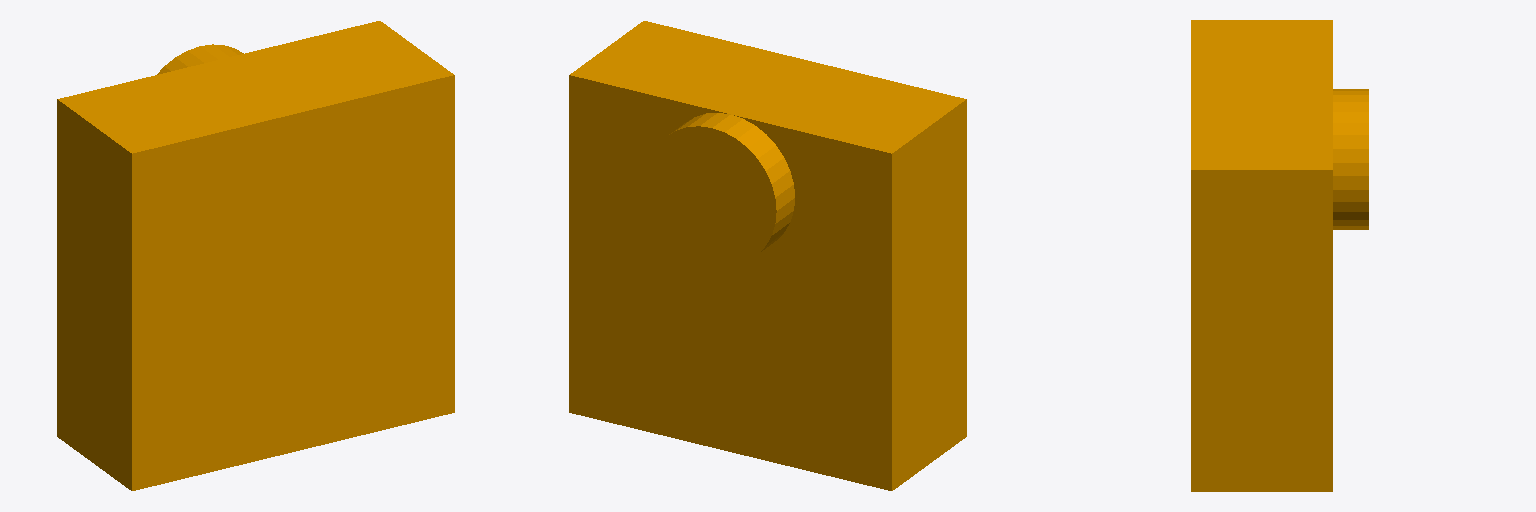
robot.urdf — Camera Sensor:
<?xml version="1.0"?>
<robot name="Camera Sensor">

	<link name="outerframe">
		<pose> 0 0 0 0 0 0 </pose>
		<inertial>
		    <origin xyz="0.0 0.0 0.05" rpy="0 0 0"/>
		    <mass value="1"/>
		    <inertia
			ixx="1.0" ixy="0.0" ixz="0.0"
			iyy="1.0" iyz="0.0"
			izz="1.0"/>
	    	</inertial>
		<collision name="collisionBox">
		    	<origin xyz="0.0 0.0 0.0" rpy="0 0 0"/>
			<geometry>
			<box size="0.1 0.04 0.05"/>
			</geometry>		
		</collision>
		<visual name="visualBox">
		    	<origin xyz="0.0 0.0 0.0" rpy="0 0 0"/>
			<geometry>
			<box size="0.1 0.04 0.1"/>
			</geometry>		
		</visual>

		<collision name="collisionLense">
			<origin xyz="0.0 0.02 0.03" rpy="1.5707963 0 0" />
			<geometry>
				<cylinder length="0.02" radius="0.02"/>
			</geometry>		
		</collision>
		<visual name="visualLense">
			<origin xyz="0.0 0.02 0.03" rpy="1.5707963 0 0" />
			<geometry>
				<cylinder length="0.02" radius="0.02"/>	
			</geometry>			
		</visual>
			
	
	</link>
	<gazebo reference = "outerframe">
		<sensor  type="camera" name="Camera URDF">
			<pose>0 0 0.03 0 0 1.57</pose>
			<update_rate>50</update_rate>
			<always_on>true</always_on>
			<visualize>true</visualize>
			<camera>
				<horizontal_fov>1.047</horizontal_fov>
				<image>
					<height>786</height>
					<width>786</width>
				</image>
				<!--<save enabled=True>
					<path>"[local-path]"</path>
				</save>-->
				<noise>
				    <type>gaussian</type>
				    <mean>0.0</mean>
				    <stddev>0.01</stddev>
				</noise>
				<clip>
				    <near>0.1</near>
				    <far>100</far>
				</clip>
				<distortion>
				   <k1>-0.25</k1>
				   <k2>0.12</k2>
				   <k3>0.0</k3>
				   <p1>-0.00028</p1>
				   <p2>-0.00005</p2>
				   <center>0.5 0.5</center>
				</distortion>
			</camera>


		</sensor>
</gazebo>
</robot>

--- Render facts (derived) ---
3 views of the same robot in one strip: view 1: azimuth 30°, elevation 25°; view 2: azimuth 150°, elevation 25°; view 3: azimuth 270°, elevation 25° (orthographic).
Model Camera Sensor with 1 links and 0 joints (none), rooted at outerframe, posed every joint at zero.
Links seen in each view (by area): view 1: outerframe; view 2: outerframe; view 3: outerframe.
Link boxes in pixels (box(x1,y1,x2,y2)): outerframe: box(57, 21, 454, 490); outerframe: box(569, 21, 966, 490); outerframe: box(1191, 20, 1368, 491).
Size in the robot's own frame: 0.1 by 0.05 by 0.1 metres.
Geometry: primitives only (box / cylinder / sphere), no mesh files.